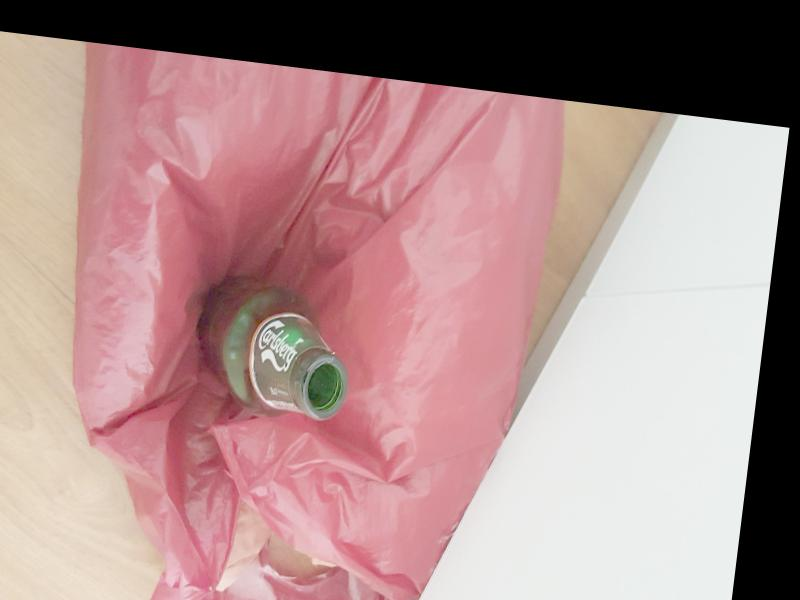Beer: (186, 276, 357, 422)
